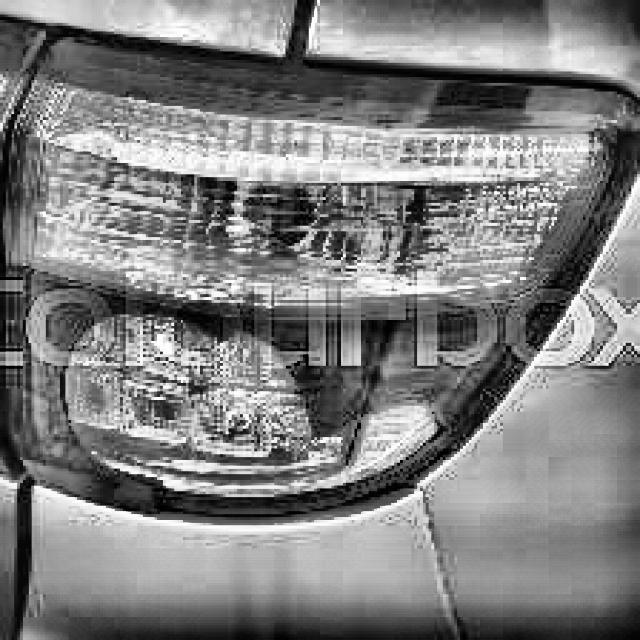tail_lamp: (75, 322, 428, 499)
